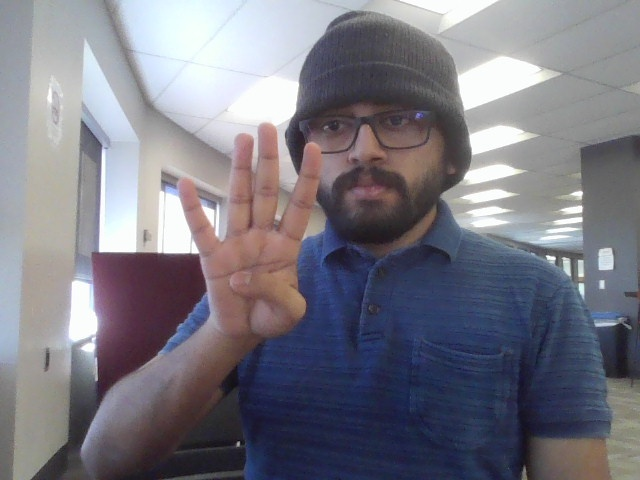start: (165, 119, 335, 332)
